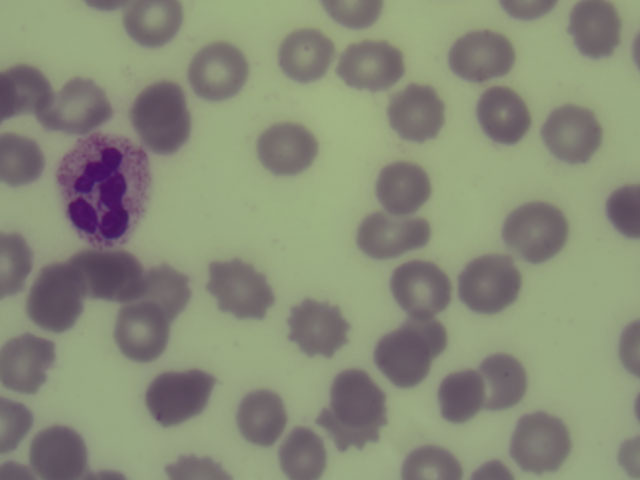RBC: (323, 371, 385, 442), (24, 425, 92, 480), (70, 249, 137, 297), (448, 31, 513, 80), (42, 81, 111, 126), (120, 1, 186, 47), (338, 41, 400, 89), (396, 261, 450, 316), (463, 255, 517, 310), (375, 157, 429, 212), (512, 413, 566, 468), (470, 350, 524, 405), (432, 367, 486, 422), (378, 328, 432, 383), (276, 425, 330, 480), (233, 388, 287, 443), (151, 368, 205, 423), (290, 298, 344, 353), (213, 261, 267, 316), (509, 205, 563, 260), (542, 106, 596, 161), (477, 88, 531, 143), (259, 122, 313, 177), (112, 305, 166, 360), (132, 260, 186, 315), (27, 270, 81, 325), (388, 85, 442, 140), (280, 31, 334, 86), (136, 89, 190, 144), (191, 43, 245, 98), (567, 1, 621, 55), (1, 337, 54, 392), (358, 216, 431, 254), (1, 63, 53, 115), (398, 439, 461, 480), (1, 131, 46, 186), (606, 180, 640, 250), (320, 1, 388, 31), (163, 451, 232, 480), (1, 233, 30, 300), (1, 397, 32, 453), (615, 316, 640, 378)
WBC: (59, 132, 144, 251)
